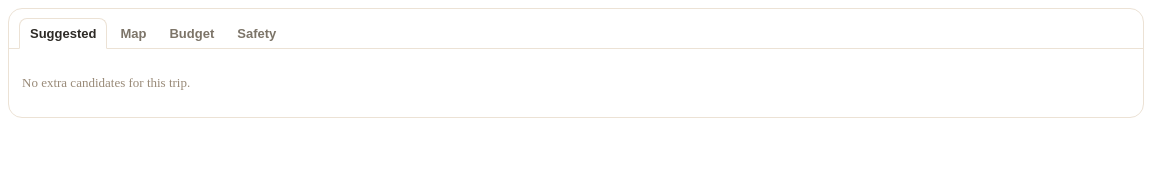
Scenario: #205: Safety tab renders result.advisories[] (honesty disclosures) › a non-empty advisories[] renders every entry, not just the first
Click the button "Safety": (257, 33) [227,18,286,48]
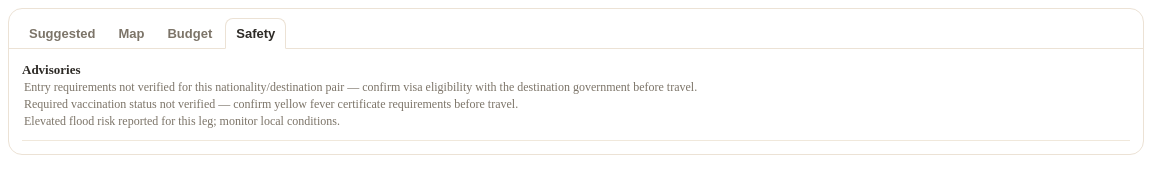
Now the element with test id "trip-advisories" is shown, box [22,62,1130,141]
Now the number of elements with test id "advisory-item" is 3, box [24,80,697,94]; [24,97,518,111]; [24,114,340,128]
Now the text "Elevated flood risk reported for this leg; monitor local conditions." is shown, box [24,114,340,128]
